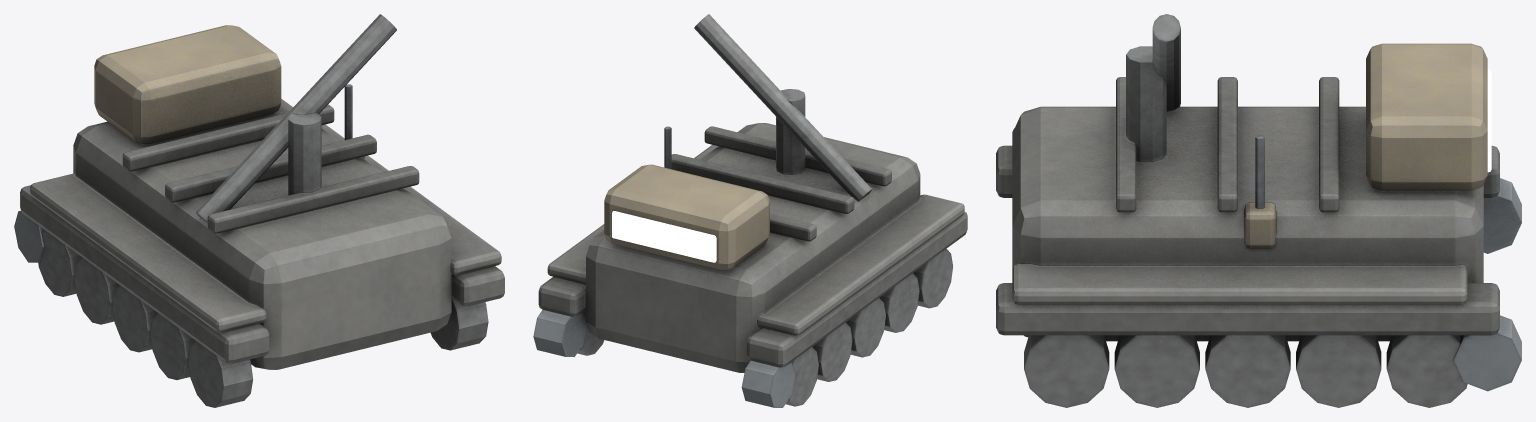
File: com_mcv.glb
3 views of the same model, side by side, from view 1: azimuth 30°, elevation 25°; view 2: azimuth 150°, elevation 25°; view 3: azimuth 270°, elevation 25° (orthographic). The views are drawn at different scales.
Visible parts, largest first — view 1: com_mcv; view 2: com_mcv; view 3: com_mcv.
Boxes of the visible parts, x1,y1,x2,y2 form: com_mcv: [14, 14, 504, 407]; com_mcv: [533, 14, 967, 407]; com_mcv: [996, 14, 1521, 407].
Size of the model in its own units: 0.97 by 0.9961 by 1.29.
1 material, 1 textured.
